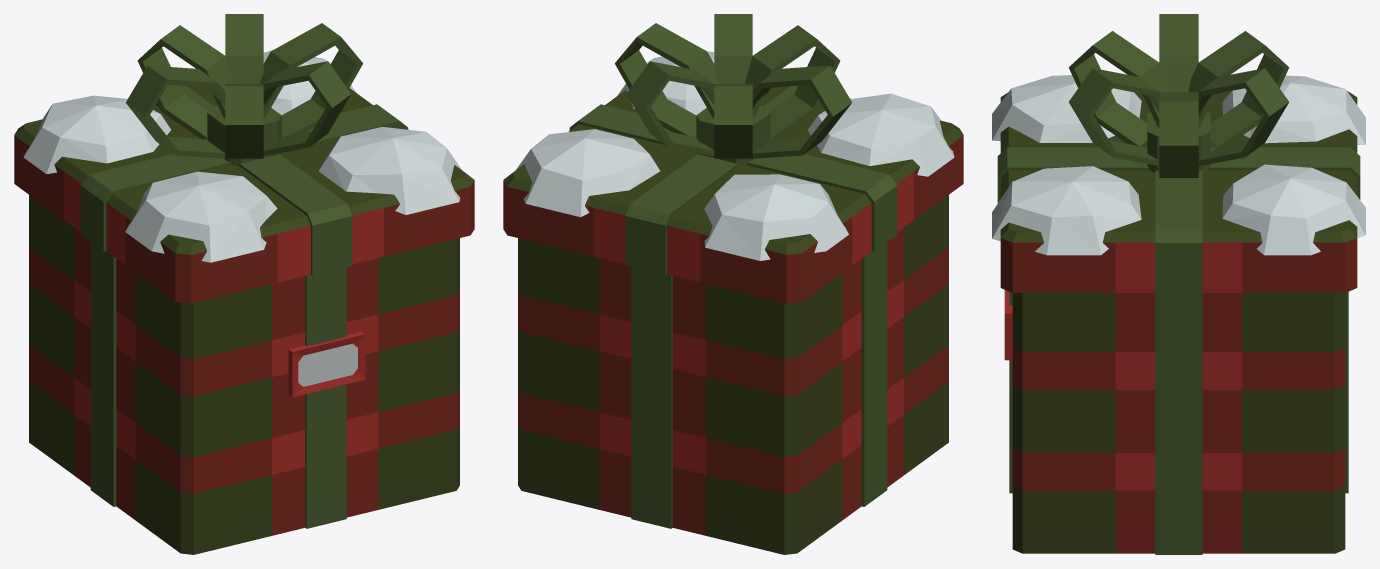
The model's file is big-wrapped-present-57b639.glb.
3 renders of one model, left to right at view 1: azimuth 30°, elevation 25°; view 2: azimuth 150°, elevation 25°; view 3: azimuth 270°, elevation 25°, orthographic. The views are drawn at different scales.
Parts seen in each view (by area): view 1: object 1, lid; view 2: object 1, lid; view 3: object 1, lid.
Part boxes in pixels (left/top/right/bottom): object 1: left=29, top=195, right=459, bottom=554; lid: left=14, top=14, right=474, bottom=303; object 1: left=518, top=195, right=948, bottom=554; lid: left=503, top=14, right=963, bottom=303; object 1: left=1004, top=290, right=1348, bottom=554; lid: left=992, top=14, right=1365, bottom=294.
Size of the model in its own units: 0.9437 by 1.19 by 0.9437.
